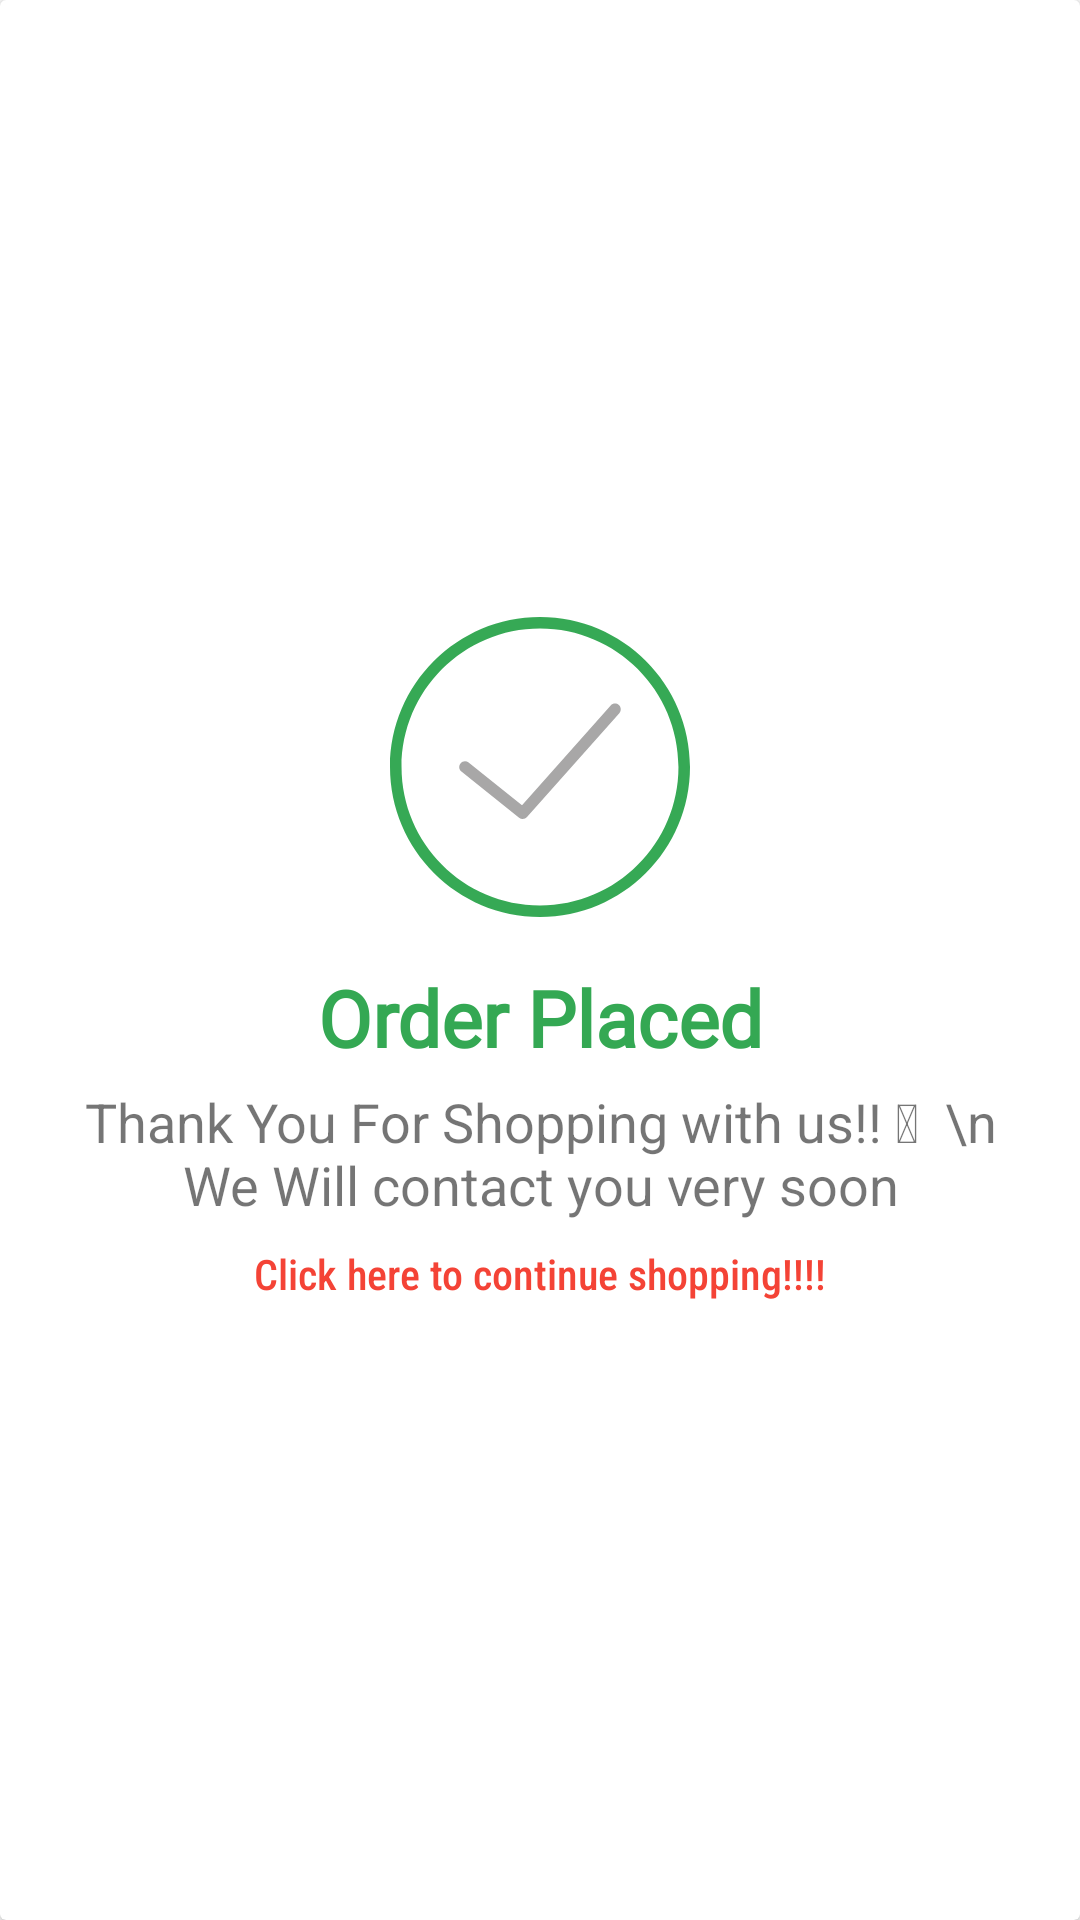

Screen size 1080px×1920px. Icon name, then its box in pixels as bbox=[x1, y1, x2, y2]:
tick: bbox=[390, 617, 690, 917]
